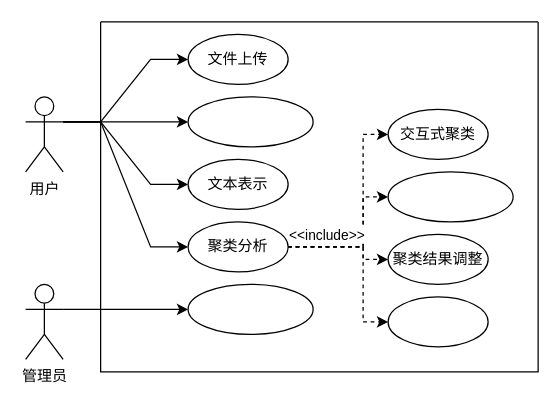
Some shapes in this 560 by 408 pixel diagram are drawn without their labels. Each missing label, with the box of its shape:
分词&去停用词: (187, 96, 313, 147)
用户数据管理: (187, 283, 313, 334)
聚类结果可视化: (387, 171, 513, 222)
迭代式聚类: (387, 296, 488, 347)
